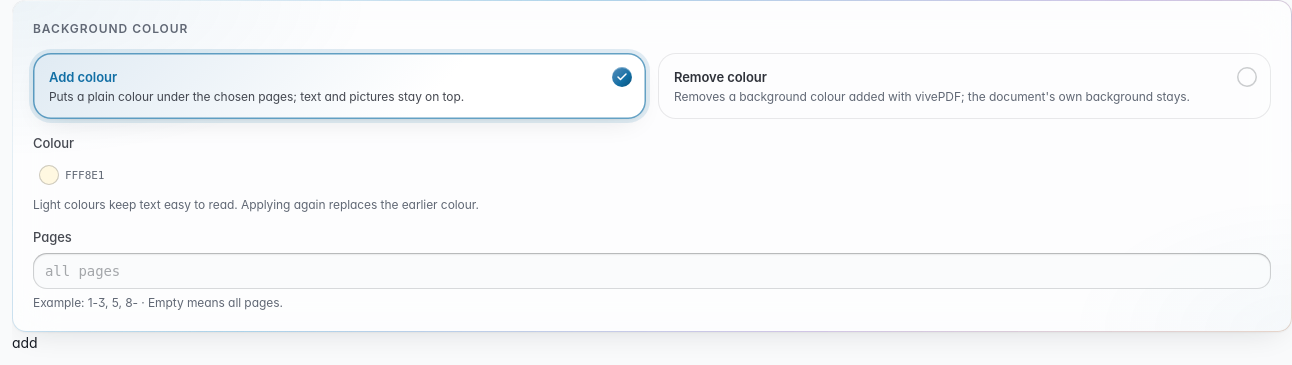
Test: BackgroundTab › hides the colour when removing an earlier background
Click the radio button labelled "Remove colour": point(964, 86) [658,53,1271,119]
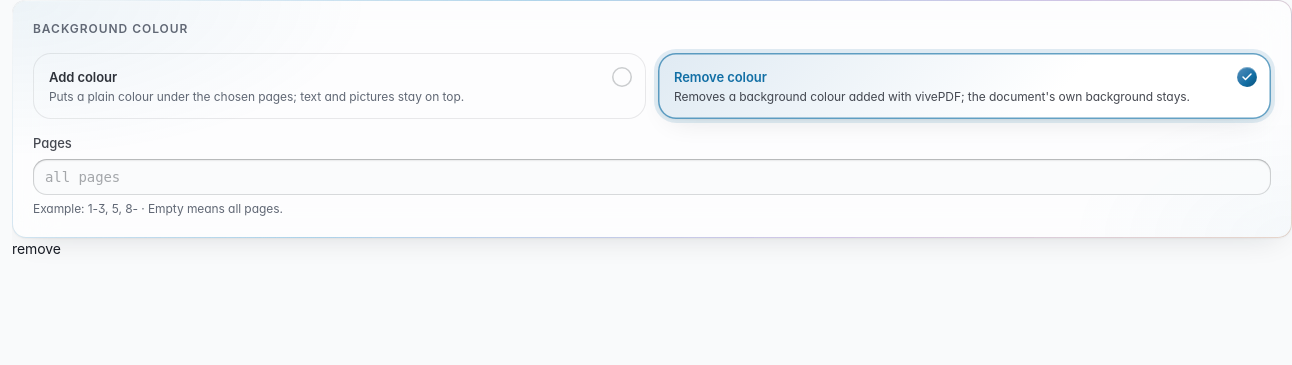
Check: the text with test id "mode" reads "remove", box [12,240,61,257]
